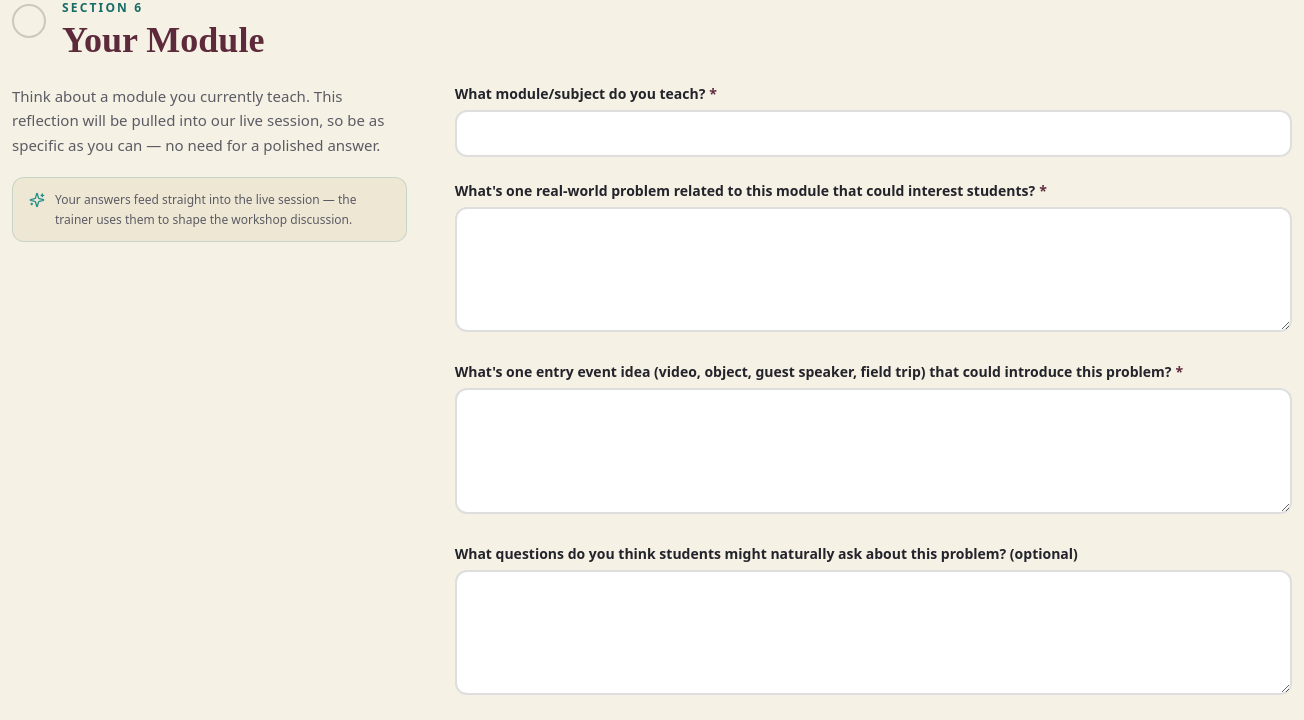
Test: S6 Module reflection › the optional field neither unlocks nor blocks Continue
Type "Why do regulars drift away?" into the text box named "What questions do you think students might naturally ask about this problem? (optional)".
click(873, 632); type("Why do regulars drift away?")  # box [455,570,1292,695]
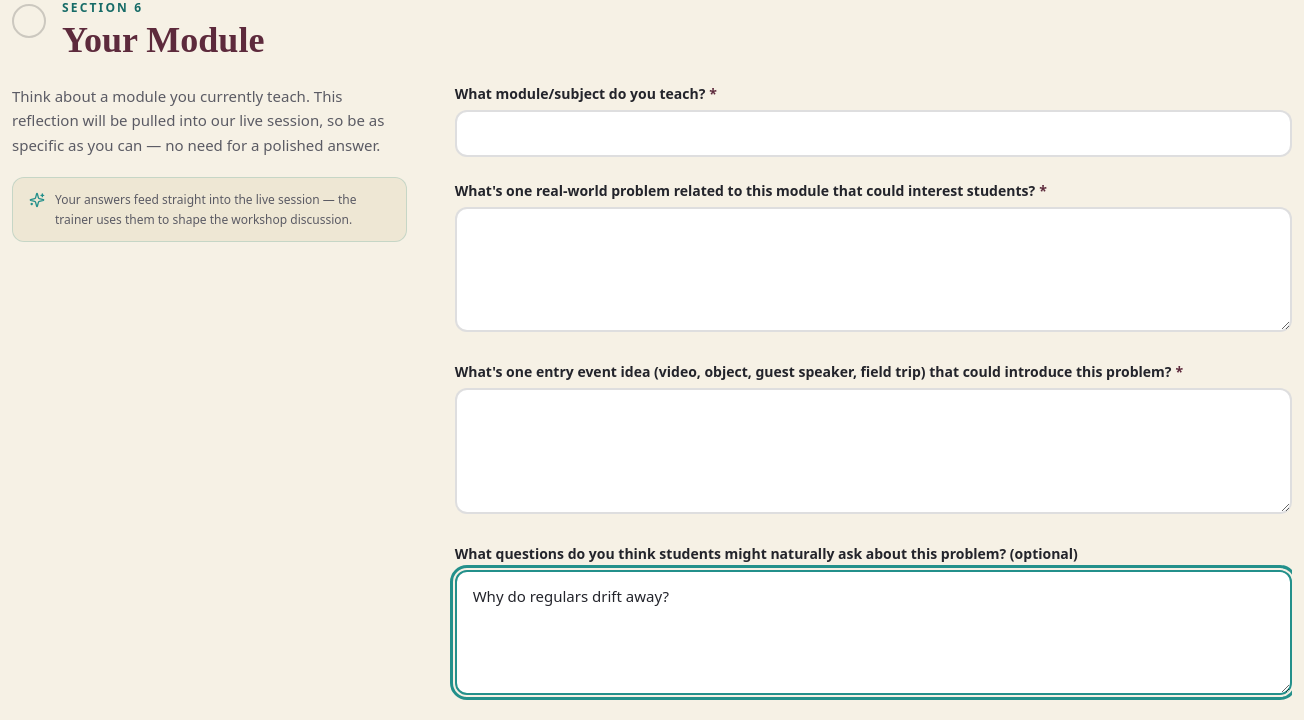
Type "Principles of Marketing" into the field labelled "What module/subject do you teach?".
click(873, 133); type("Principles of Marketing")  # box [455,110,1292,156]
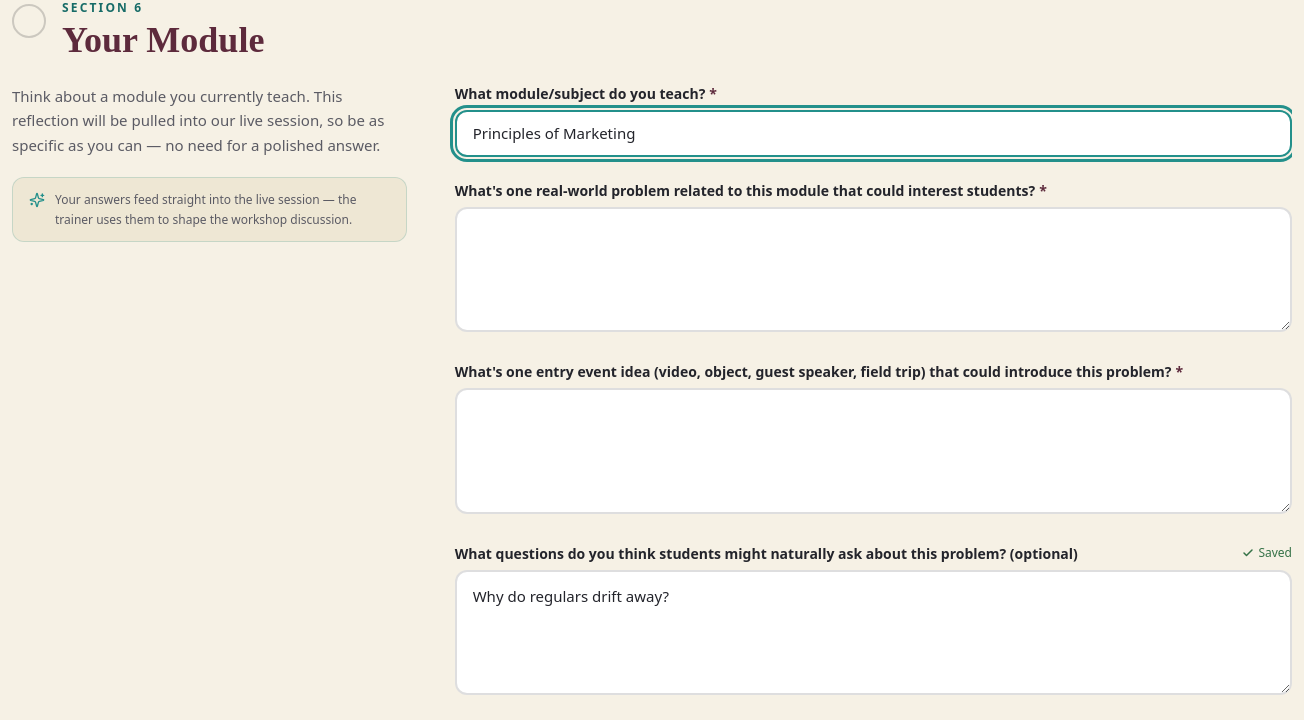
Type "A local cafe keeps losing regular customers to a new chain." into the text box named "What's one real-world problem related to this module that could interest students?".
click(873, 269); type("A local cafe keeps losing regular customers to a new chain.")  # box [455,206,1292,332]
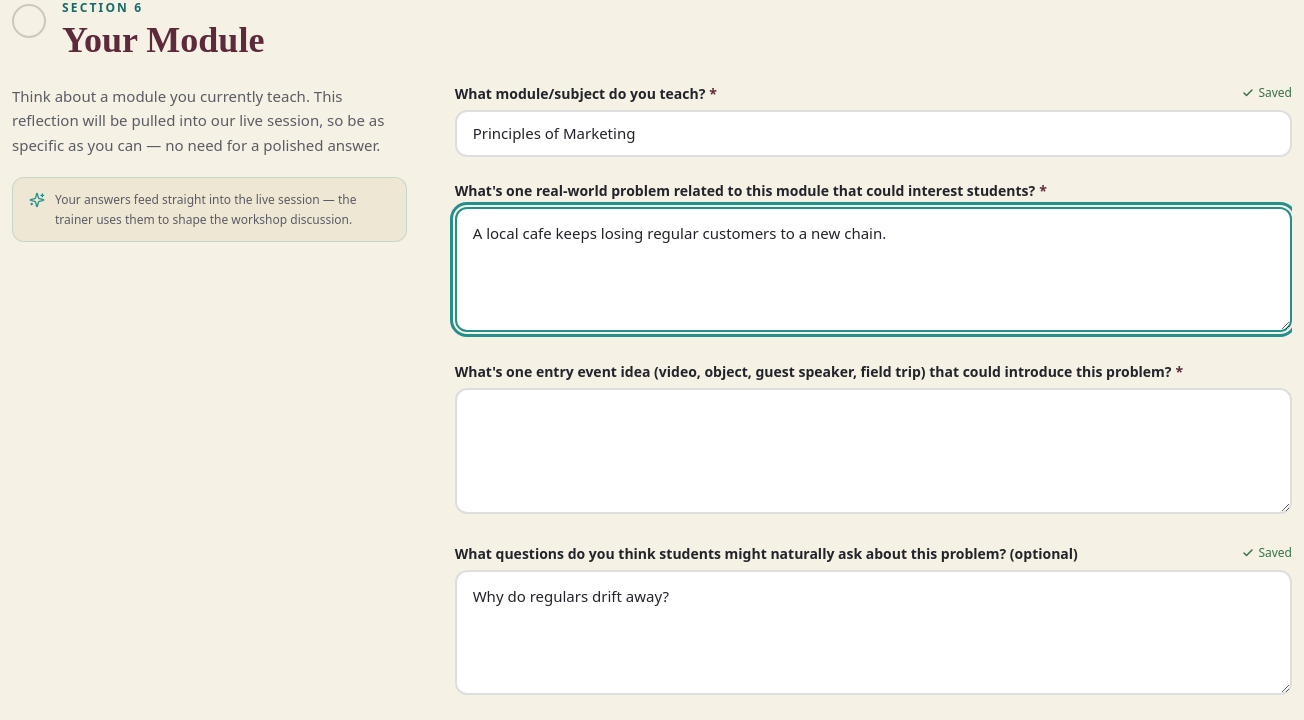
Type "Invite the cafe owner to speak about their falling sales." into the text box named "What's one entry event idea (video, object, guest speaker, field trip) that could introduce this problem?".
click(873, 451); type("Invite the cafe owner to speak about their falling sales.")  # box [455,388,1292,514]
(page scrolled)
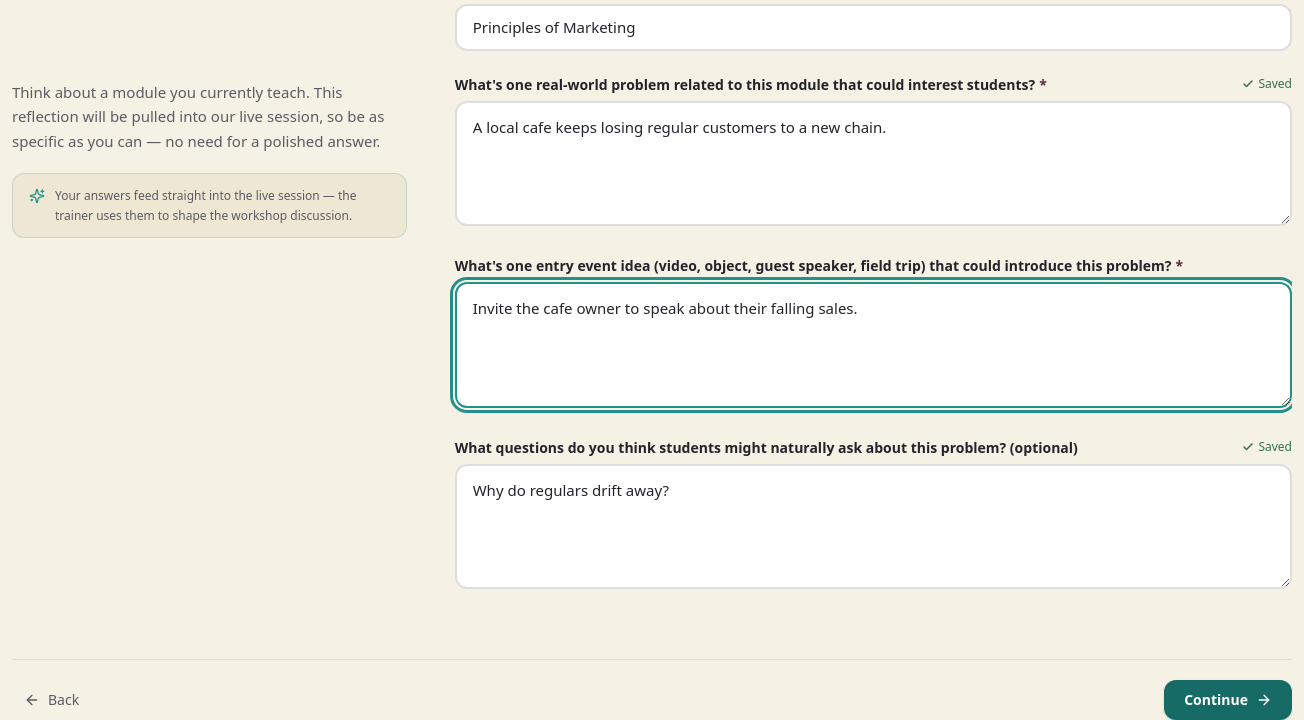
Check: the button "Continue" is enabled, box [1164,680,1292,719]
